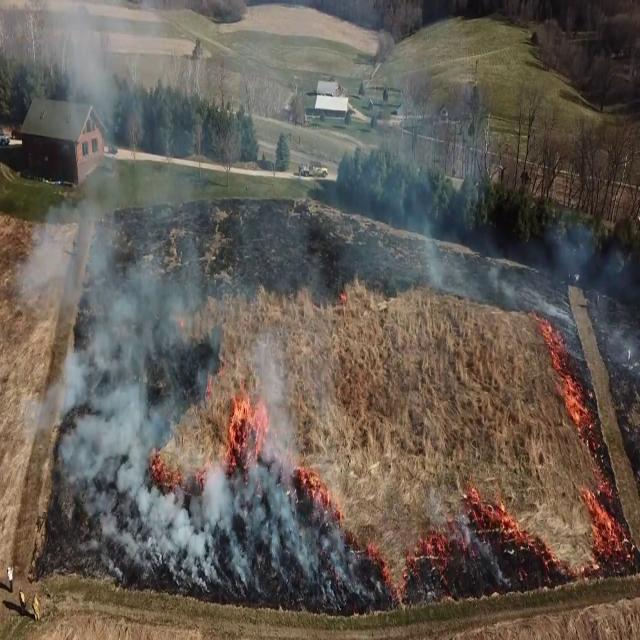Fire: (225, 363, 272, 471)
Smoke: (9, 1, 325, 595)
